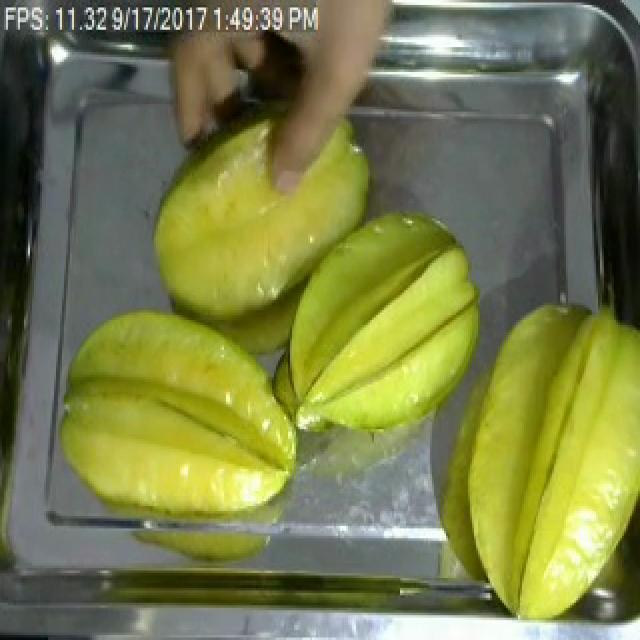fruit: (450, 288, 640, 628), (136, 100, 396, 338), (48, 298, 310, 533), (272, 186, 498, 442)
